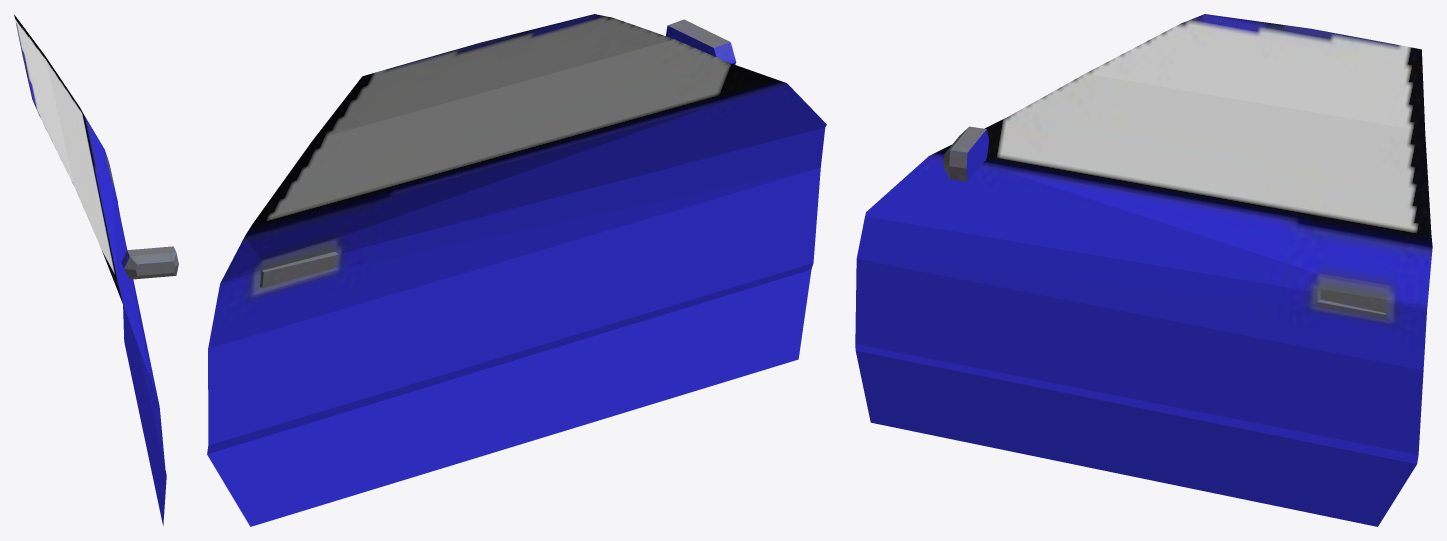
The model's file is leftdoor5.obj.
3 renders of one model, left to right at view 1: azimuth 30°, elevation 25°; view 2: azimuth 150°, elevation 25°; view 3: azimuth 270°, elevation 25°, orthographic. The views are drawn at different scales.
Visible parts, largest first — view 1: leftdoor; view 2: leftdoor; view 3: leftdoor.
Boxes of the visible parts, bbox=[...] form: leftdoor: bbox=[14, 14, 178, 525]; leftdoor: bbox=[207, 14, 826, 526]; leftdoor: bbox=[855, 14, 1432, 526].
Size of the model in its own units: 0.4229 by 0.7008 by 0.8706.
